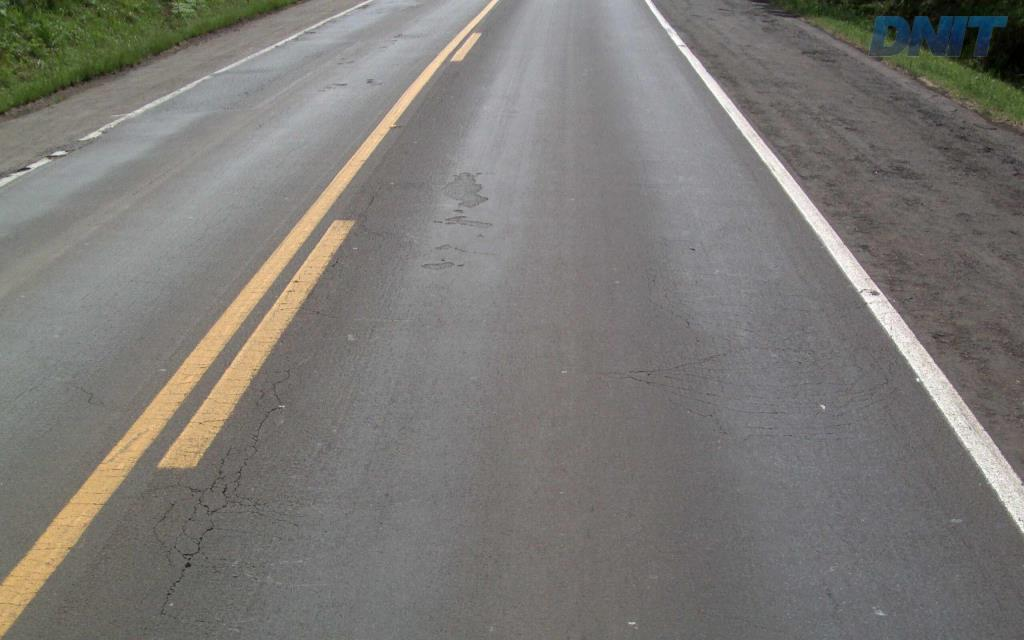crack: (165, 526, 213, 601)
pothole: (435, 167, 497, 208), (440, 206, 494, 229), (412, 257, 458, 271), (429, 240, 451, 253)
